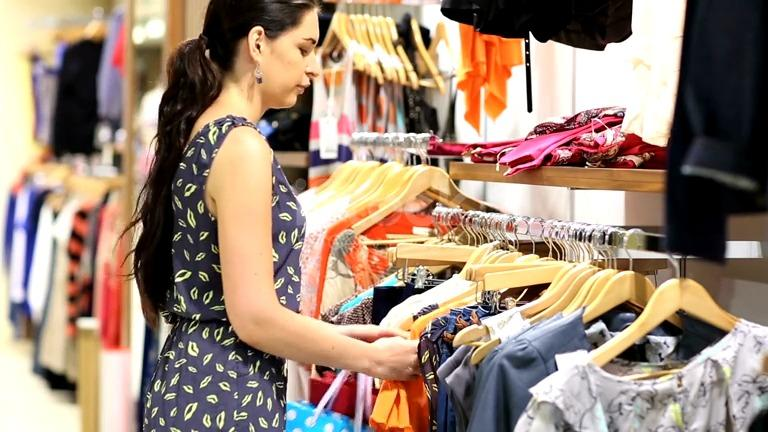Shoplifting: (128, 1, 440, 432)
